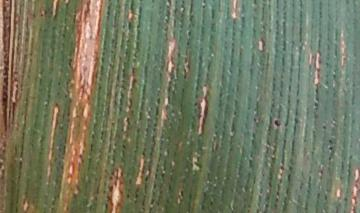tarspot: (268, 115, 285, 132)
